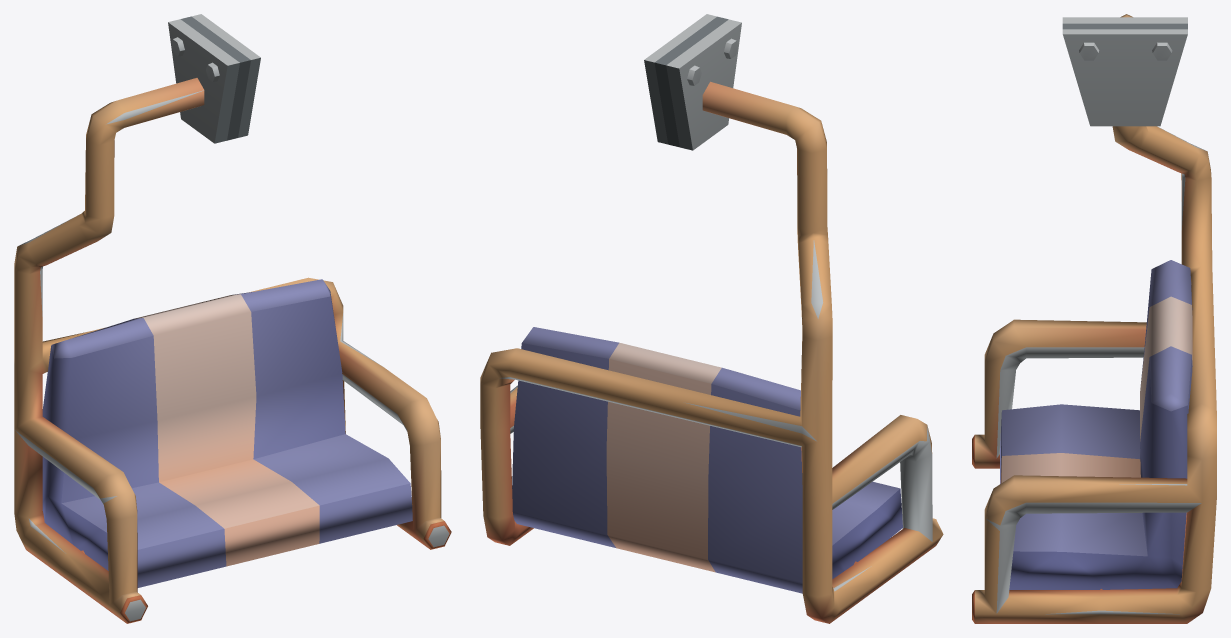
Rendered from ChairliftChair.glb.
The picture shows the model from 3 angles, left to right: view 1: azimuth 30°, elevation 25°; view 2: azimuth 150°, elevation 25°; view 3: azimuth 270°, elevation 25°; orthographic projection. The views are drawn at different scales.
Parts seen in each view (by area): view 1: ChairliftChair; view 2: ChairliftChair; view 3: ChairliftChair.
Part boxes in pixels (box(x1,y1,x2,y2)): ChairliftChair: box(14, 14, 451, 623); ChairliftChair: box(480, 14, 943, 623); ChairliftChair: box(972, 14, 1216, 623).
Size of the model in its own units: 1.33 by 1.87 by 0.8032.
